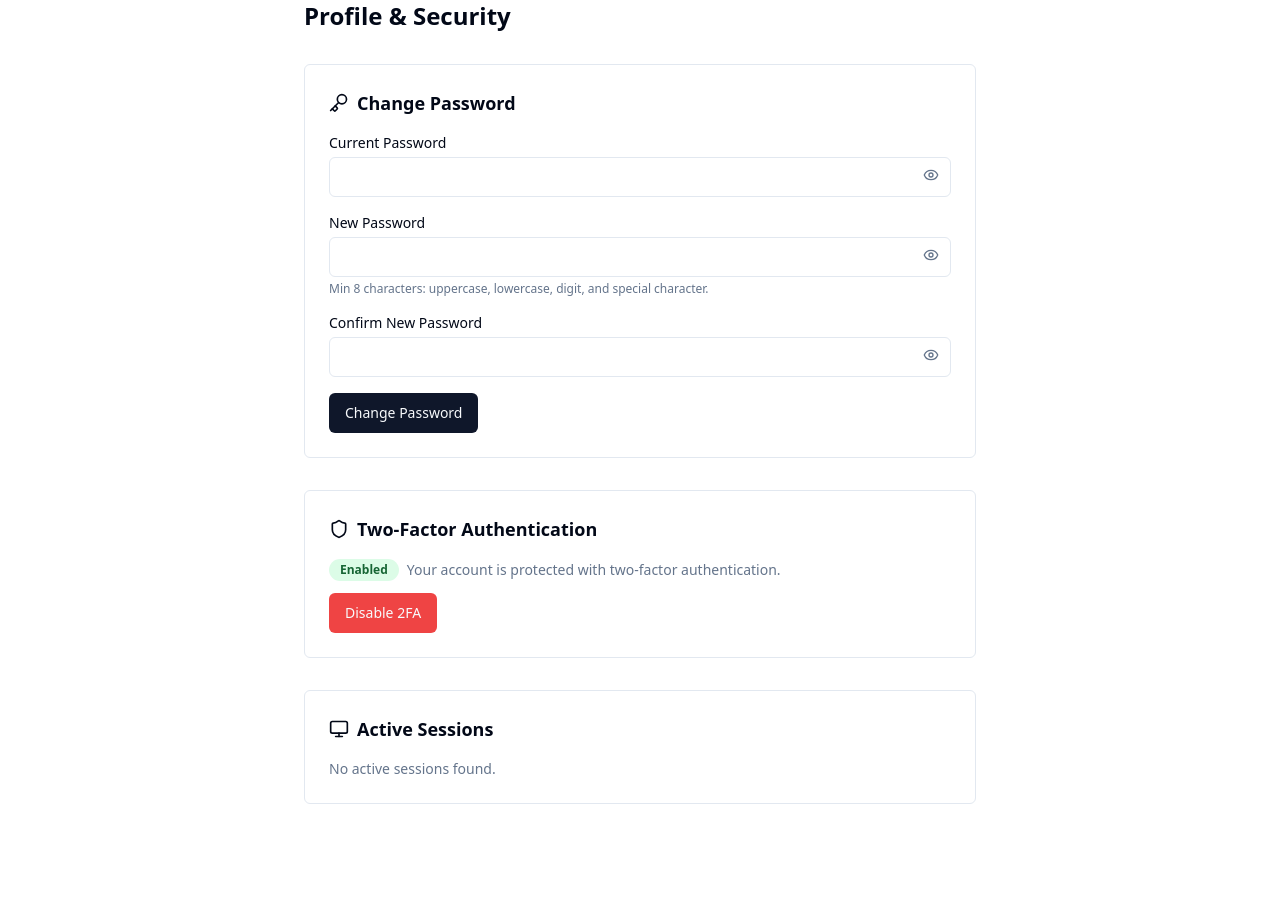
Test: ProfilePage › shows confirmation before disabling 2FA
Expected: the element with test id "profile-page" is shown, [304,0,976,804]
Step 1. Click the button with test id "disable-2fa-btn" → (383, 613), box [329,593,437,633]
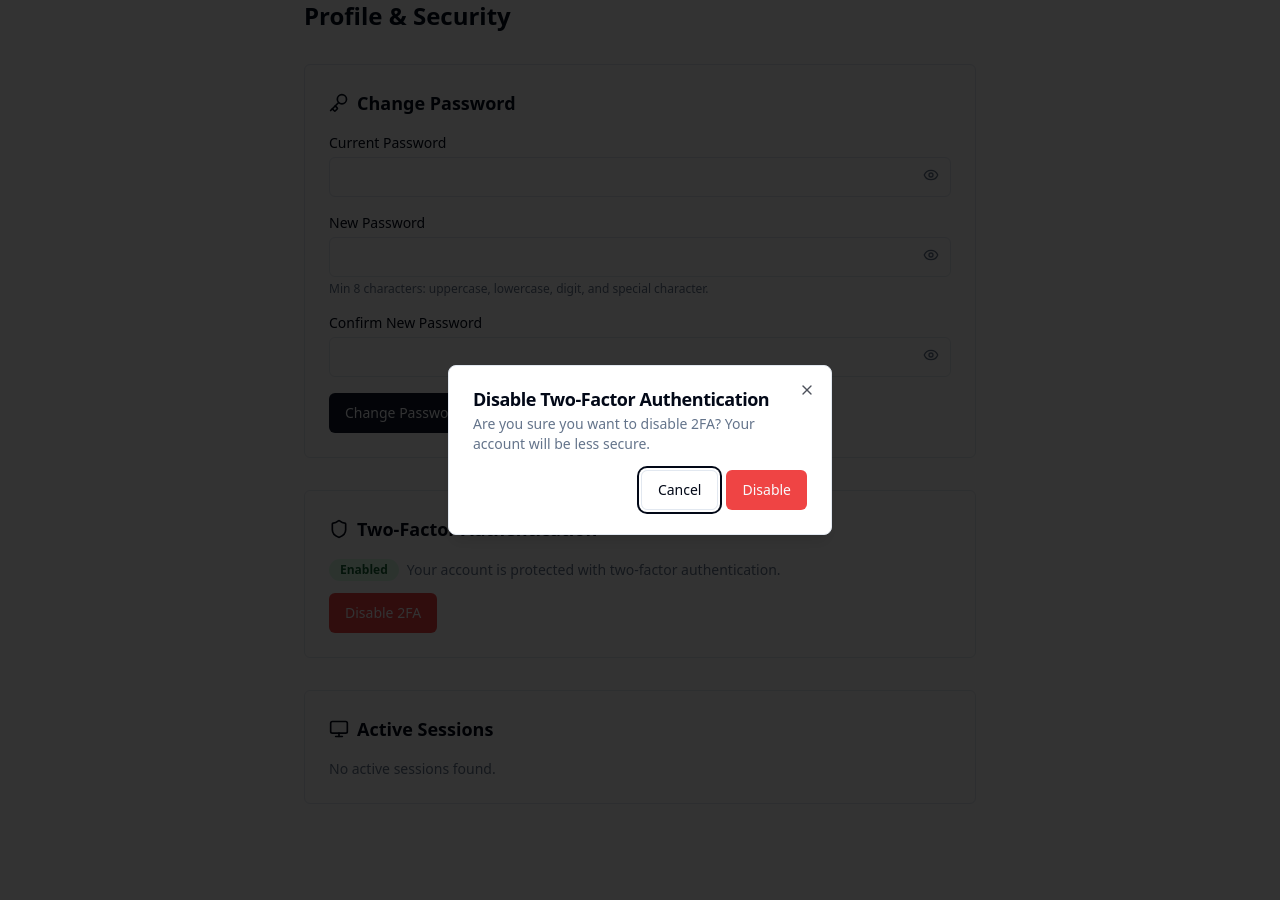
Expected: the heading "Disable Two-Factor Authentication" is shown, [473,390,807,408]
Expected: the button with test id "confirm-disable-2fa" is shown, [726,470,807,510]
